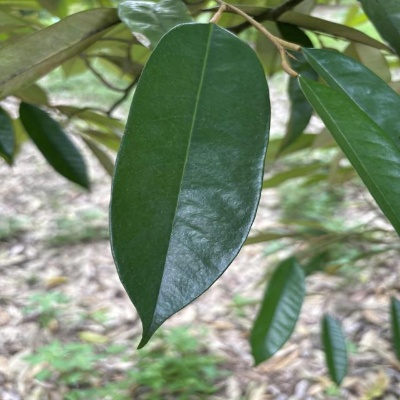Leaf_Healthy: (107, 8, 273, 352)
